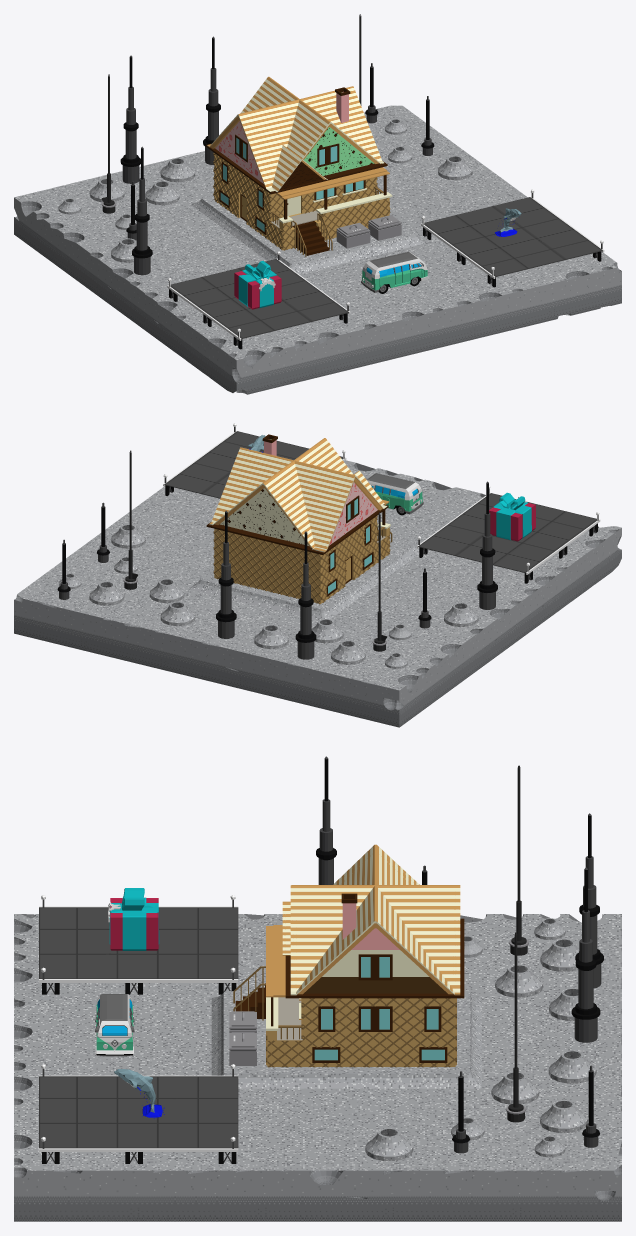
3 renders of one model, top to bottom at view 1: azimuth 30°, elevation 25°; view 2: azimuth 150°, elevation 25°; view 3: azimuth 270°, elevation 25°, orthographic. The views are drawn at different scales.
Visible parts, largest first — view 1: Cube.027, Cube.1102, Cube.026, Cube.025, Cube.028, VEHICLES_VAN, OBJRANDOM_GIANT_PRESENT, Cylinder.020, Cylinder.021, Cylinder.017, Cube.029, Cube.030 (+4 smaller); view 2: Cube.027, Cube.1102, Cube.025, Cube.028, Cube.026, OBJRANDOM_GIANT_PRESENT, VEHICLES_VAN, Cylinder.020, Cylinder.021, Cylinder.017, Cylinder.031, Cylinder.028 (+8 smaller); view 3: Cube.027, Cube.1102, Cube.026, Cube.025, Cube.028, OBJRANDOM_GIANT_PRESENT, Cylinder.017, VEHICLES_VAN, Cylinder.020, Cylinder.021, Cylinder.033, Cylinder.031 (+11 smaller).
Part boxes in pixels (left/top/right/bottom): Cube.027: left=14, top=105, right=621, bottom=394; Cube.1102: left=205, top=76, right=392, bottom=256; Cube.026: left=421, top=189, right=604, bottom=287; Cube.025: left=167, top=251, right=350, bottom=349; Cube.028: left=191, top=195, right=424, bottom=274; VEHICLES_VAN: left=361, top=251, right=428, bottom=293; OBJRANDOM_GIANT_PRESENT: left=234, top=261, right=281, bottom=309; Cylinder.020: left=120, top=55, right=140, bottom=183; Cylinder.021: left=132, top=146, right=152, bottom=275; Cylinder.017: left=203, top=36, right=220, bottom=164; Cube.029: left=336, top=222, right=370, bottom=248; Cube.030: left=368, top=215, right=401, bottom=240; Cube.027: left=14, top=460, right=621, bottom=727; Cube.1102: left=206, top=434, right=392, bottom=604; Cube.025: left=417, top=485, right=600, bottom=583; Cube.028: left=190, top=538, right=419, bottom=620; Cube.026: left=163, top=423, right=346, bottom=498; OBJRANDOM_GIANT_PRESENT: left=489, top=492, right=535, bottom=541; VEHICLES_VAN: left=366, top=473, right=423, bottom=515; Cylinder.020: left=295, top=531, right=316, bottom=659; Cylinder.021: left=477, top=481, right=497, bottom=609; Cylinder.017: left=216, top=510, right=236, bottom=638; Cylinder.031: left=89, top=581, right=124, bottom=605; Cylinder.028: left=331, top=640, right=365, bottom=664; Cube.027: left=14, top=914, right=621, bottom=1221; Cube.1102: left=233, top=844, right=464, bottom=1067; Cube.026: left=39, top=1064, right=238, bottom=1163; Cube.025: left=39, top=895, right=238, bottom=994; Cube.028: left=211, top=991, right=481, bottom=1088; OBJRANDOM_GIANT_PRESENT: left=108, top=888, right=159, bottom=950; Cylinder.017: left=571, top=867, right=600, bottom=1042; VEHICLES_VAN: left=95, top=994, right=134, bottom=1056; Cylinder.020: left=575, top=813, right=603, bottom=988; Cylinder.021: left=316, top=756, right=336, bottom=884; Cylinder.033: left=365, top=1128, right=413, bottom=1160; Cylinder.031: left=540, top=1100, right=587, bottom=1132.
Bounding box in the file's own units: 4000 × 1815 × 4000.
34 materials, 5 textured.
